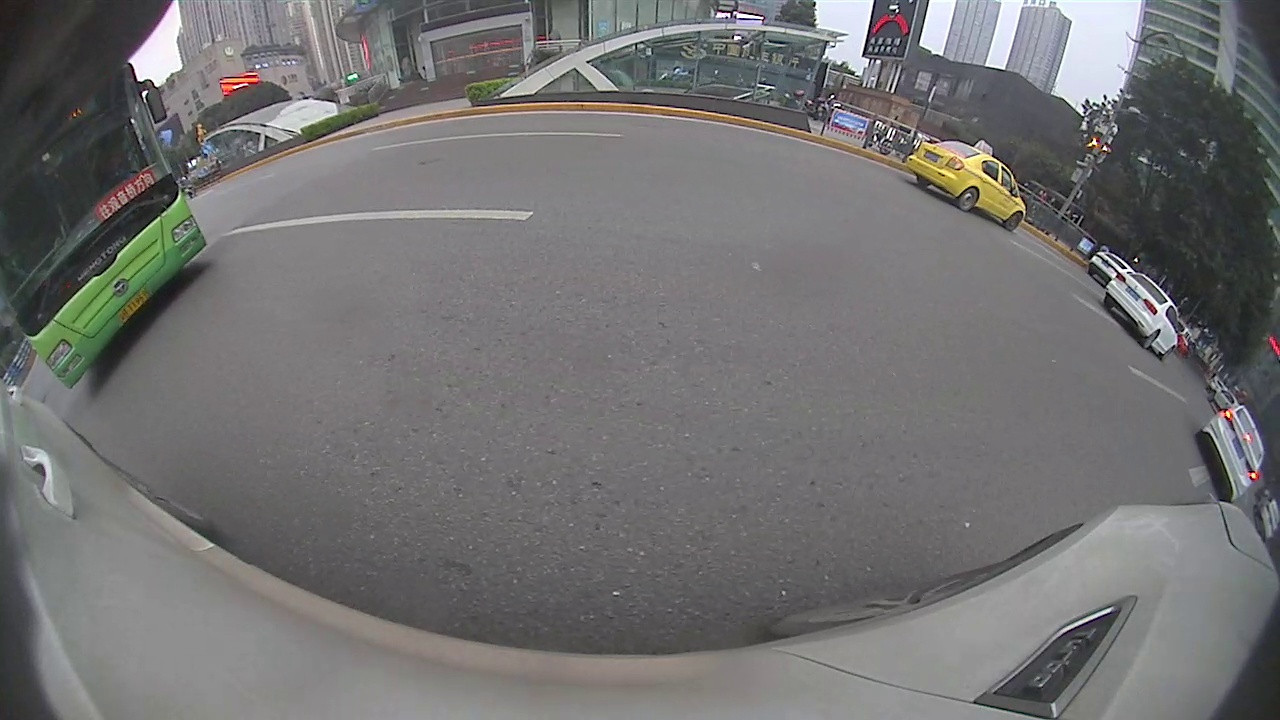bus: (1, 59, 212, 392)
car: (902, 138, 1030, 232), (1192, 402, 1266, 510), (1100, 270, 1182, 364)
front: (1003, 212, 1024, 234)
rear: (954, 187, 979, 213), (1143, 330, 1160, 352)
